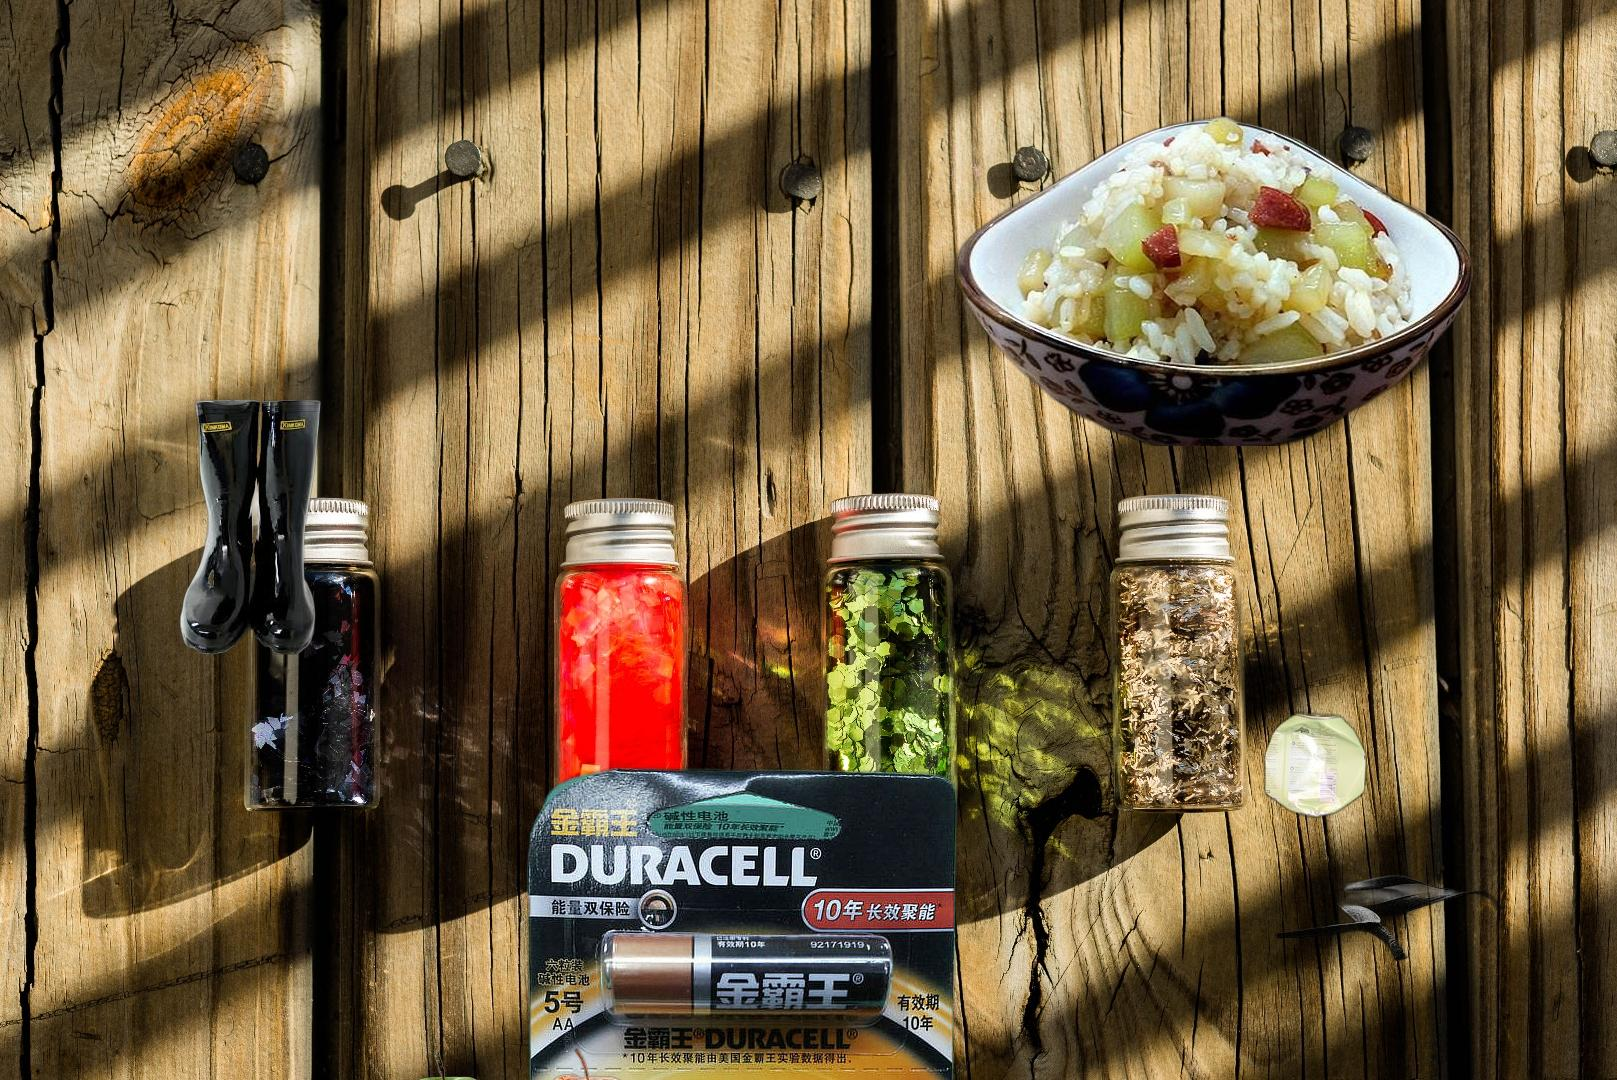battery: (521, 764, 962, 1080)
biological: (949, 112, 1478, 446), (394, 1045, 639, 1080)
clothes: (510, 1078, 884, 1080)
metal-cans: (1260, 706, 1371, 824)
shoes: (1277, 843, 1552, 994), (177, 397, 324, 655)
